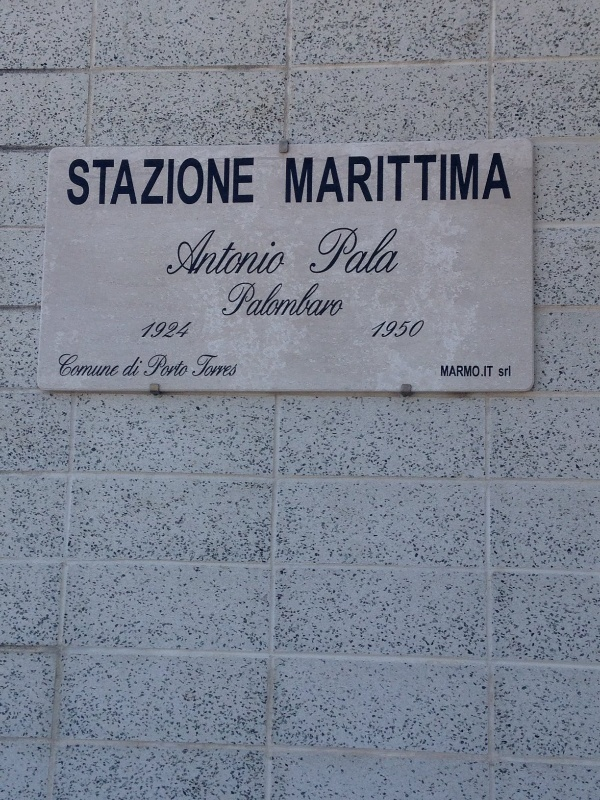text: (337, 222, 352, 276), (353, 222, 368, 276), (369, 222, 384, 276), (193, 226, 208, 278), (209, 226, 224, 278), (225, 226, 240, 278), (241, 226, 256, 278), (257, 226, 272, 278), (273, 226, 288, 278), (289, 154, 304, 205), (305, 154, 320, 205), (321, 154, 336, 205), (337, 154, 352, 205), (353, 154, 368, 205), (369, 154, 384, 205), (385, 154, 400, 205), (401, 154, 416, 205), (417, 154, 432, 205), (433, 154, 448, 205), (449, 154, 464, 205), (465, 154, 480, 205), (481, 154, 496, 205), (385, 222, 399, 276), (497, 154, 511, 205), (81, 159, 96, 206), (97, 159, 112, 206), (113, 159, 128, 206), (129, 159, 144, 206), (145, 159, 160, 206), (161, 159, 176, 206), (177, 159, 192, 206), (193, 159, 208, 206), (209, 159, 224, 206), (225, 159, 240, 206), (241, 159, 255, 206), (241, 281, 256, 319), (257, 281, 272, 319), (273, 281, 288, 319), (289, 281, 304, 319), (305, 281, 320, 319), (321, 281, 336, 319), (337, 281, 350, 319), (70, 159, 80, 206), (328, 222, 336, 276), (65, 352, 80, 378), (81, 352, 96, 378), (97, 352, 112, 378), (161, 353, 176, 379), (209, 353, 224, 379), (225, 353, 240, 379), (129, 355, 145, 378), (177, 353, 191, 379), (177, 321, 193, 340), (113, 352, 124, 378), (149, 353, 160, 379), (197, 353, 208, 379), (385, 321, 400, 340), (401, 321, 416, 340), (145, 321, 160, 340), (161, 321, 176, 340), (449, 363, 464, 381), (465, 363, 480, 381), (481, 363, 495, 381), (234, 281, 240, 319), (499, 365, 512, 379), (417, 321, 426, 340), (189, 226, 192, 278), (376, 321, 384, 340), (440, 363, 448, 381), (59, 352, 64, 378), (286, 154, 288, 205)
